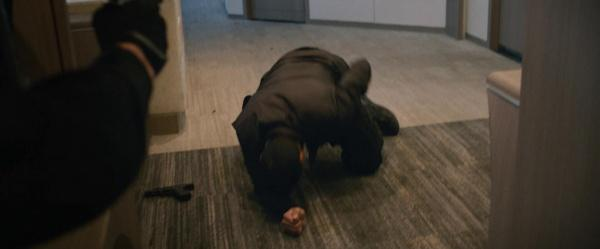Gun: (147, 183, 197, 204)
